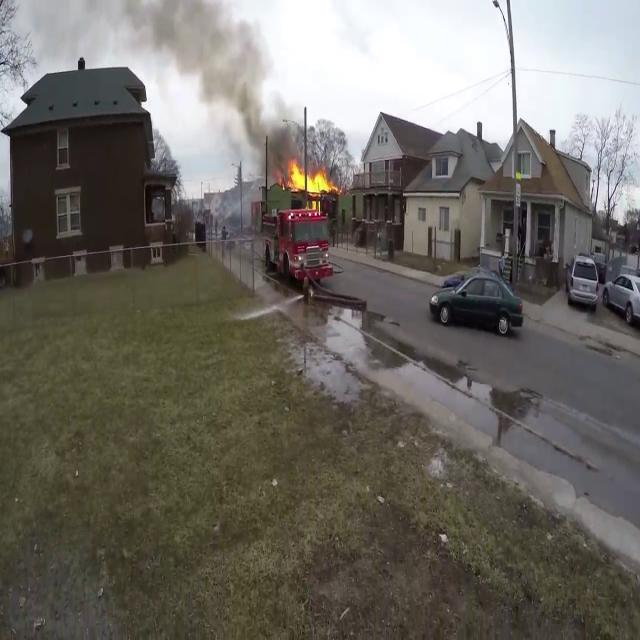Fire: (284, 159, 338, 202)
Smoke: (114, 0, 302, 168)
